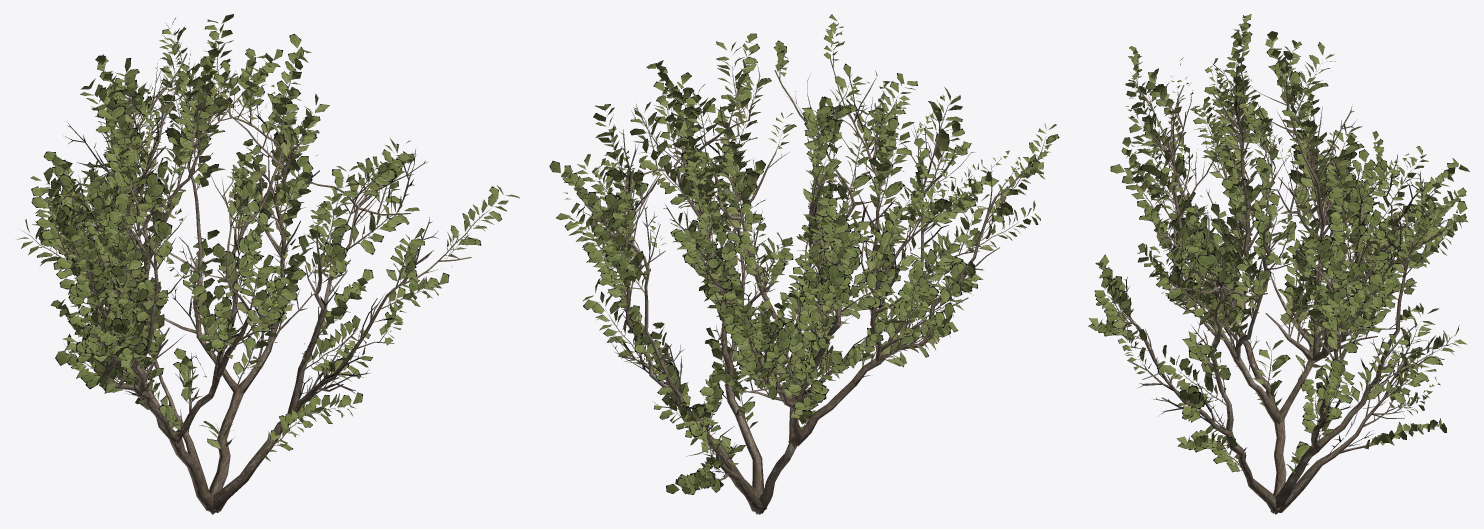
File: ph-searsia-lucida-c.glb
The picture shows the model from 3 angles, left to right: view 1: azimuth 30°, elevation 25°; view 2: azimuth 150°, elevation 25°; view 3: azimuth 270°, elevation 25°; orthographic projection. The views are drawn at different scales.
Visible parts, largest first — view 1: searsia_lucida_c_LOD0; view 2: searsia_lucida_c_LOD0; view 3: searsia_lucida_c_LOD0.
Part boxes in pixels (box(x1,y1,x2,y2)): searsia_lucida_c_LOD0: box(17, 14, 519, 514); searsia_lucida_c_LOD0: box(549, 14, 1059, 514); searsia_lucida_c_LOD0: box(1088, 14, 1469, 514).
Bounding box in the file's own units: 1.51 × 1.68 × 1.23.
2 materials, 2 textured.
